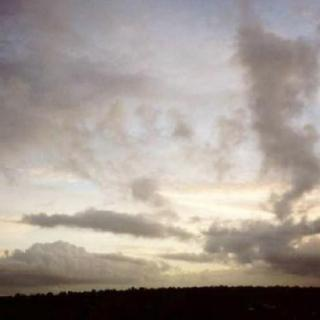Stratocumulus: (0, 1, 320, 280)
